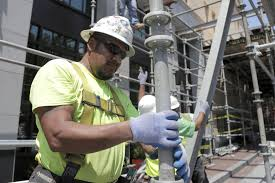hard hat: (80, 14, 135, 58), (138, 95, 159, 115), (169, 95, 181, 109)
